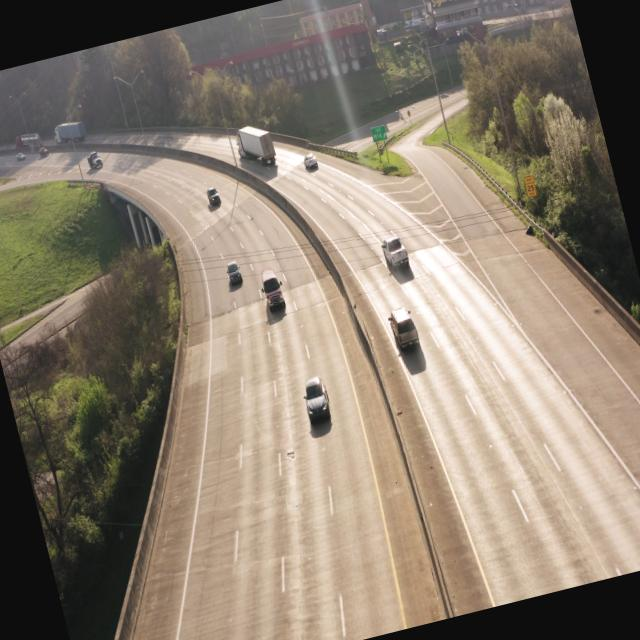Vehicle: (229, 116, 280, 175), (385, 301, 425, 359), (298, 372, 338, 428), (376, 228, 414, 277), (258, 267, 290, 317), (224, 260, 248, 292), (300, 147, 321, 175), (204, 182, 222, 212)
